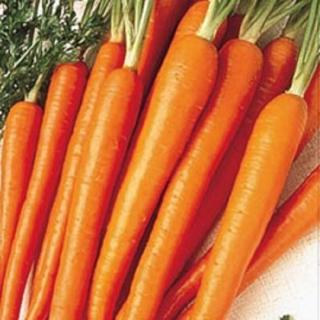Wortel: (1, 2, 320, 315)
